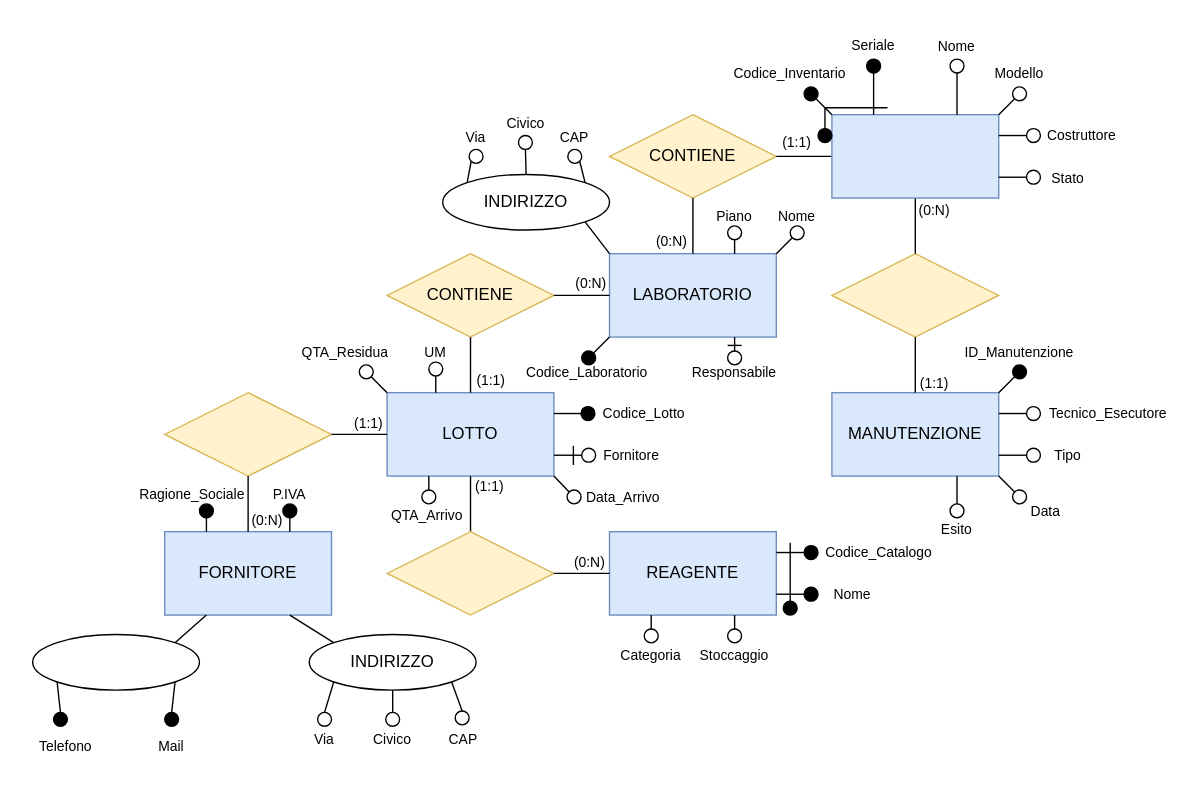
The diagram is 1191 pixels wide and 790 high, and some of its shapes have lost their labels. The shapes that lost their labels are listed below. From the top down, each one's box as (x1, y1, x2, y2) in pixels, then its label:
(831, 113, 999, 198): STRUMENTAZIONE
(831, 252, 999, 337): SOTTOPOSTA A
(163, 391, 332, 476): FORNISCE
(386, 530, 554, 615): DI
(31, 633, 199, 690): CONTATTI
